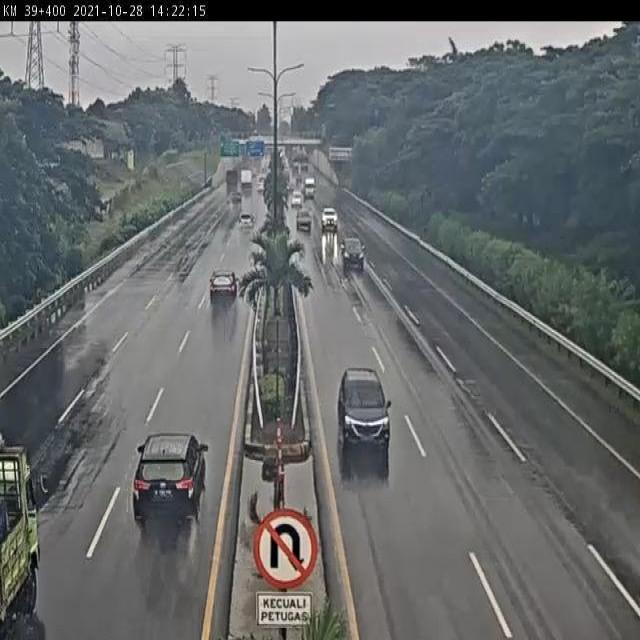car: (131, 431, 211, 524), (335, 368, 393, 453), (206, 269, 238, 307), (339, 235, 367, 269), (320, 205, 339, 231)
